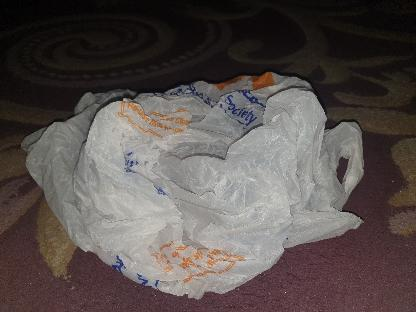Plastic Bag: (19, 68, 371, 300)
